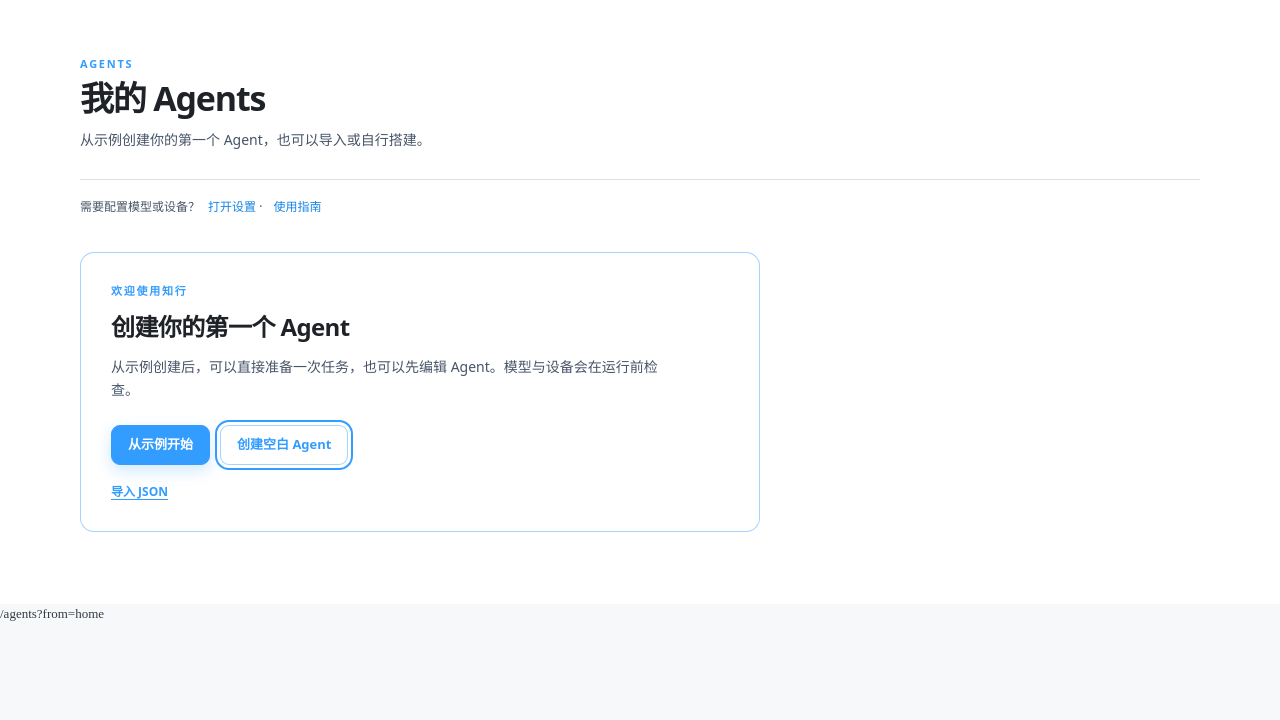
Agent Library › preserves blank creation URLs, clears only creation intent, and returns focus on close or Escape
The image size is (1280, 720).
Click the button "创建空白 Agent" at (284, 445), box left=220, top=425, right=348, bottom=465
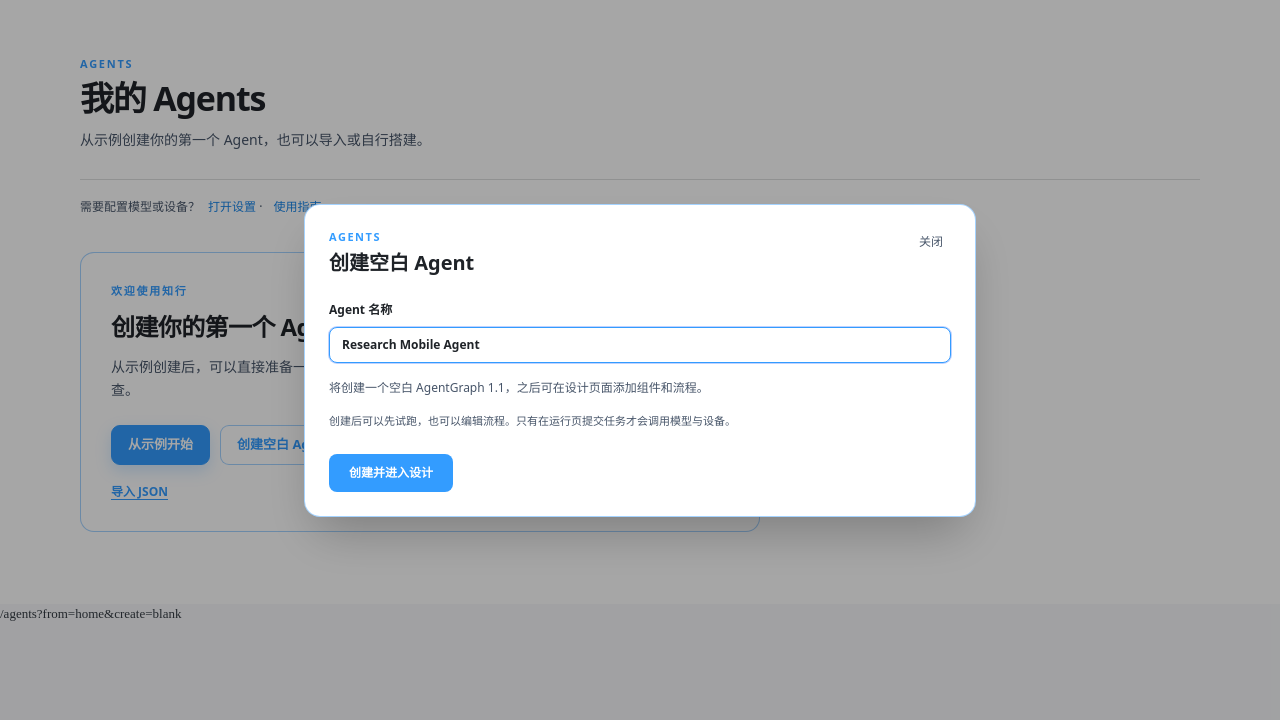
Expected: the dialog "创建空白 Agent" is shown, left=304, top=204, right=976, bottom=516
Expected: the text named "location" reads "/agents?from=home&create=blank", left=0, top=606, right=181, bottom=621
Press Escape
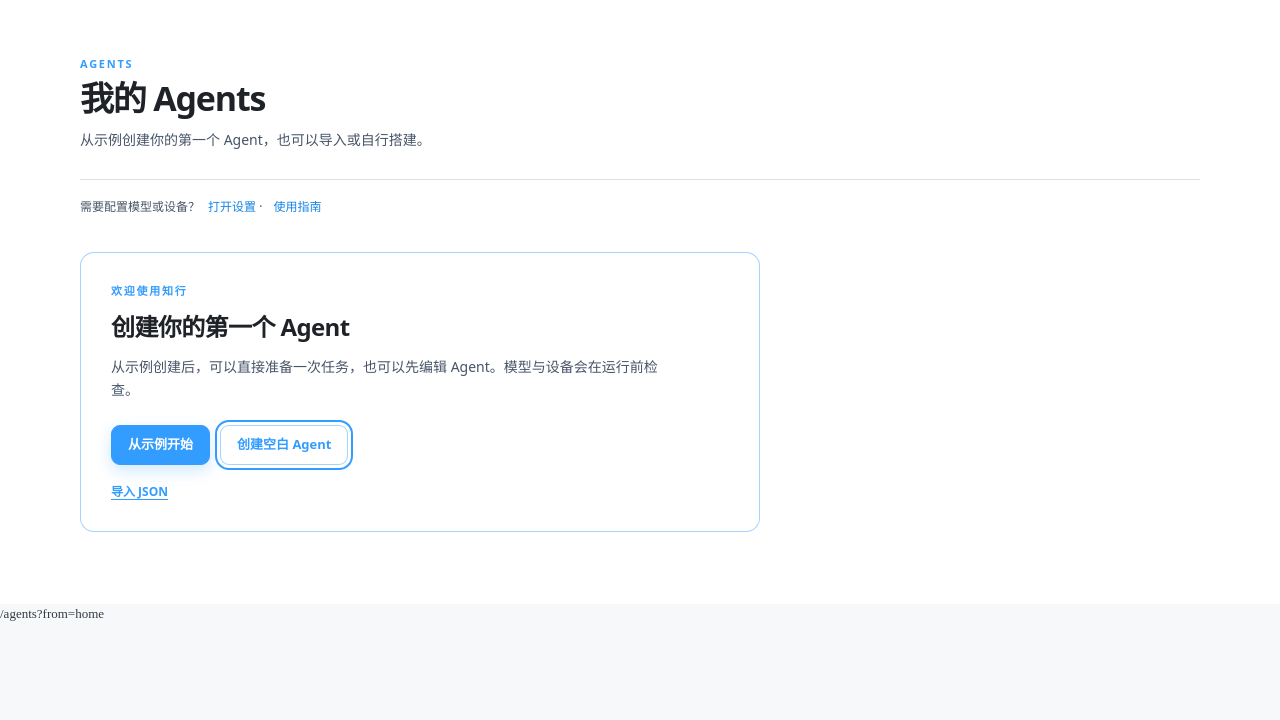
Expected: the dialog is gone
Expected: the text named "location" reads "/agents?from=home", left=0, top=606, right=104, bottom=621
Click the button "创建空白 Agent" at (284, 445), box left=220, top=425, right=348, bottom=465
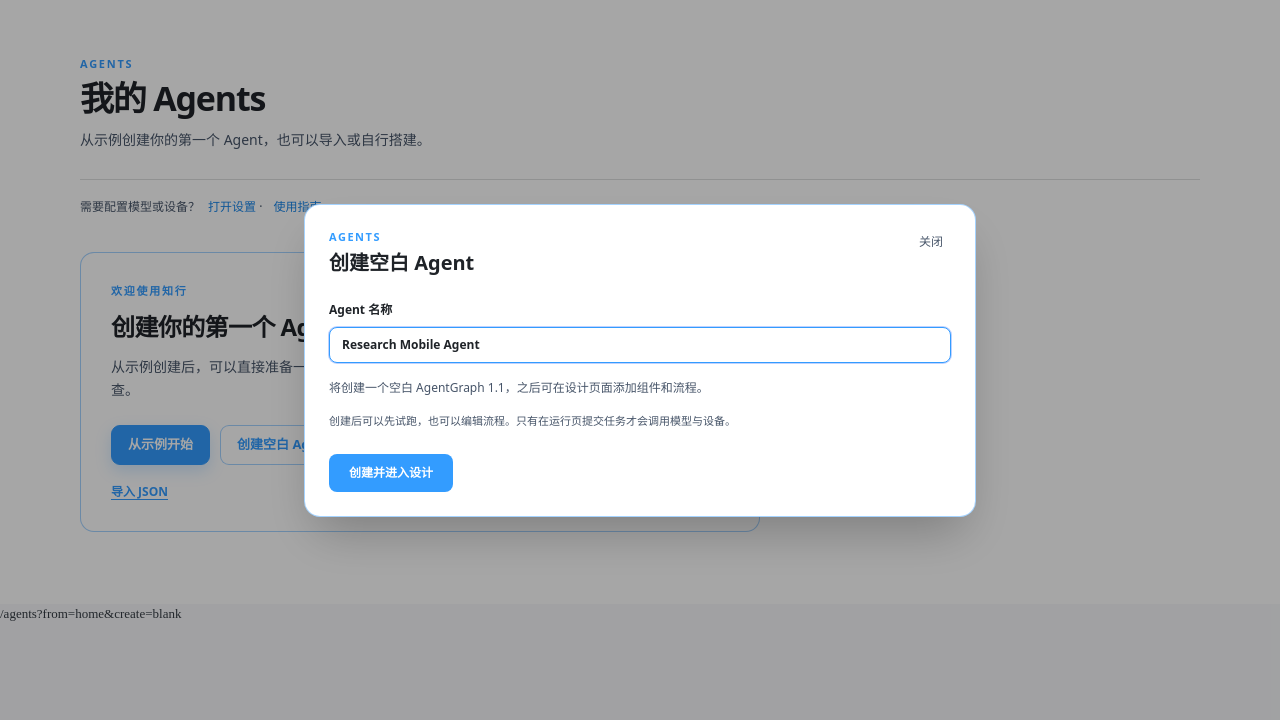
Click the button with aria-label "关闭创建 Agent" at (931, 242), box left=911, top=228, right=951, bottom=254
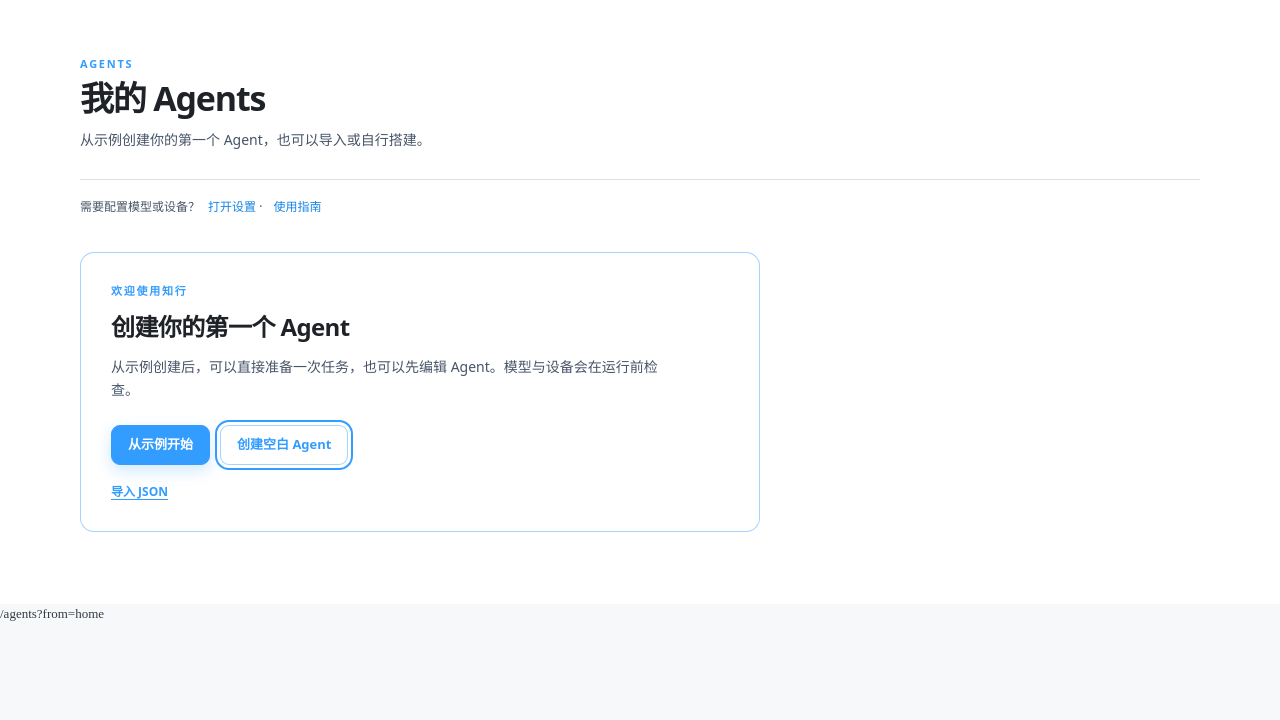
Expected: the dialog is gone
